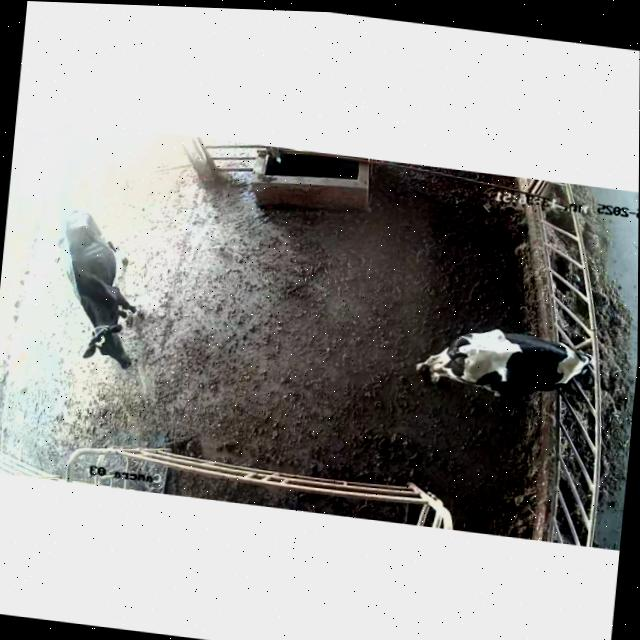stand: (40, 201, 160, 380)
